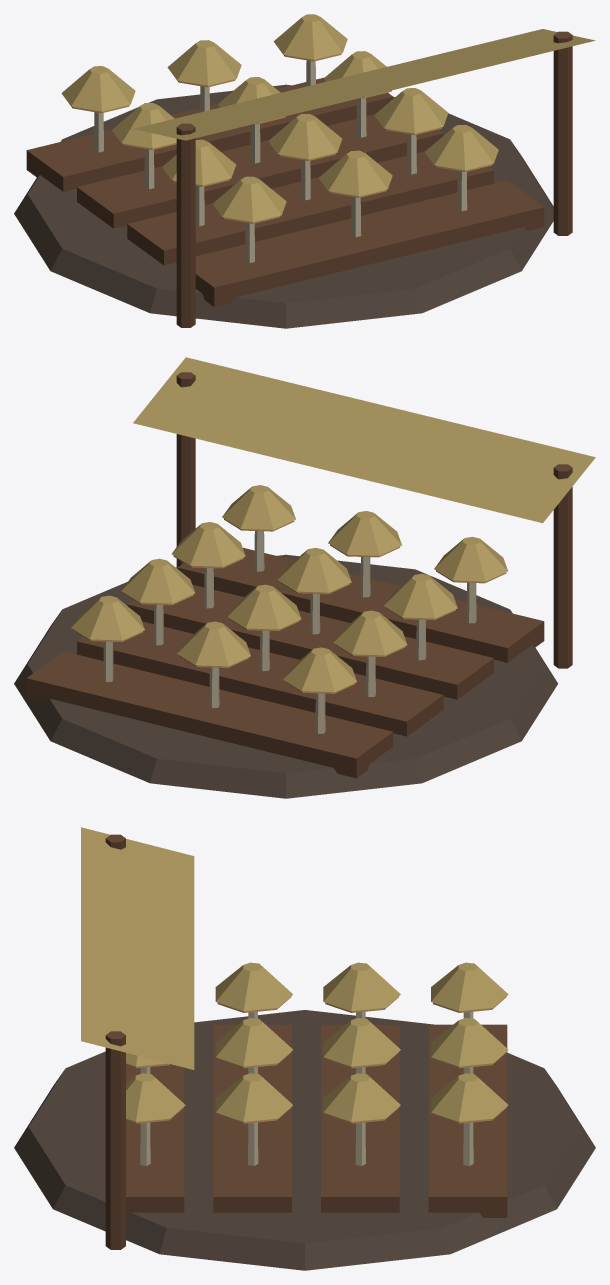
Rendered from Field_Food_3.fbx.
3 renders of one model, top to bottom at view 1: azimuth 30°, elevation 25°; view 2: azimuth 150°, elevation 25°; view 3: azimuth 270°, elevation 25°, orthographic. The views are drawn at different scales.
Parts seen in each view (by area): view 1: Field_Food_3; view 2: Field_Food_3; view 3: Field_Food_3.
Part boxes in pixels (x1,y1,x2,y2): Field_Food_3: (14, 14, 595, 328); Field_Food_3: (14, 357, 595, 798); Field_Food_3: (14, 827, 595, 1270).
Size of the model in its own units: 2 by 0.81 by 2.
Materials: 1 (1 with a texture image).
